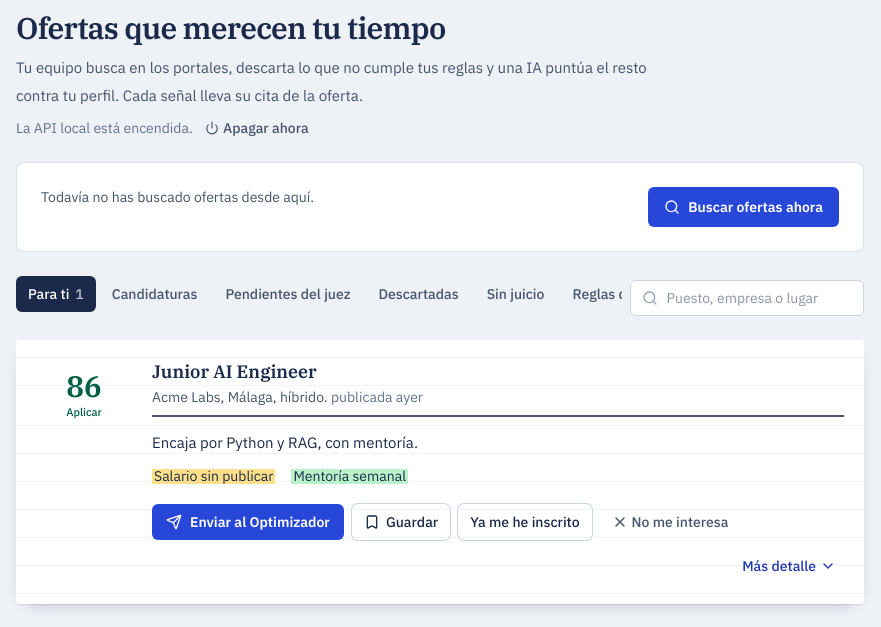
Test: HunterView › "Ya me he inscrito" la apunta en Candidaturas con la nota del juez
Click the button "Ya me he inscrito" at (525, 522), box top-left (458, 504), bottom-right (592, 540)
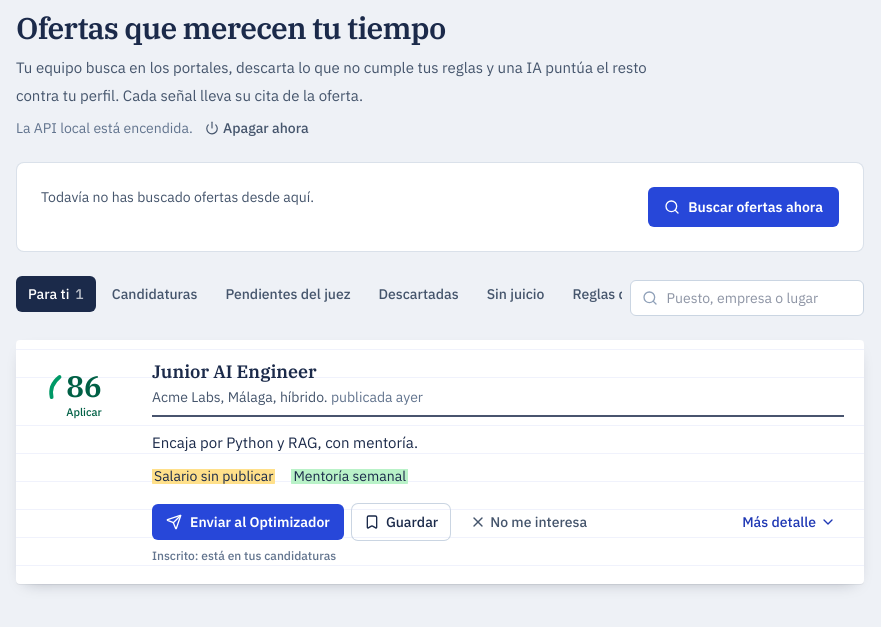
Expected: the text "Inscrito: está en tus candidaturas" is shown, top-left (152, 548), bottom-right (336, 562)
